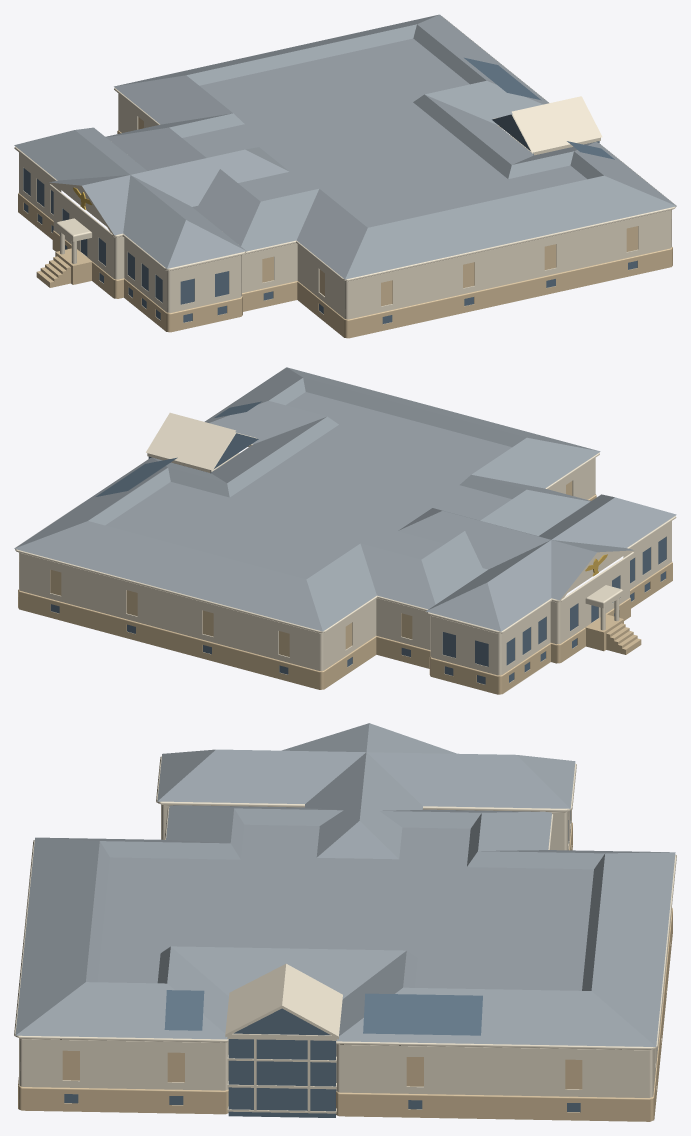
The model's file is detail.glb.
The picture shows the model from 3 angles, top to bottom: view 1: azimuth 30°, elevation 25°; view 2: azimuth 150°, elevation 25°; view 3: azimuth 270°, elevation 25°; orthographic projection. The views are drawn at different scales.
Parts seen in each view (by area): view 1: mint-museum-randolph; view 2: mint-museum-randolph; view 3: mint-museum-randolph.
Part boxes in pixels (x1,y1,x2,y2): mint-museum-randolph: [14, 14, 676, 338]; mint-museum-randolph: [14, 367, 676, 694]; mint-museum-randolph: [14, 723, 676, 1121].
Bounding box in the file's own units: 68.97 × 11.6 × 61.79.
